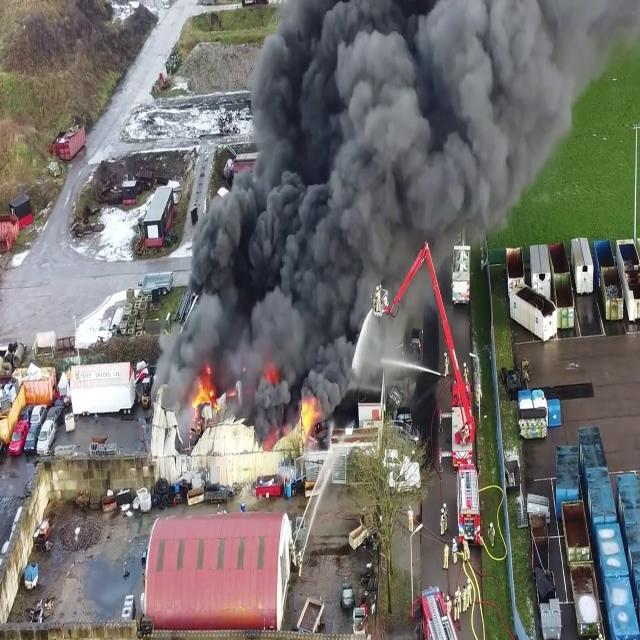Fire: (189, 365, 219, 418), (298, 388, 322, 440)
Smoke: (163, 0, 593, 390)
